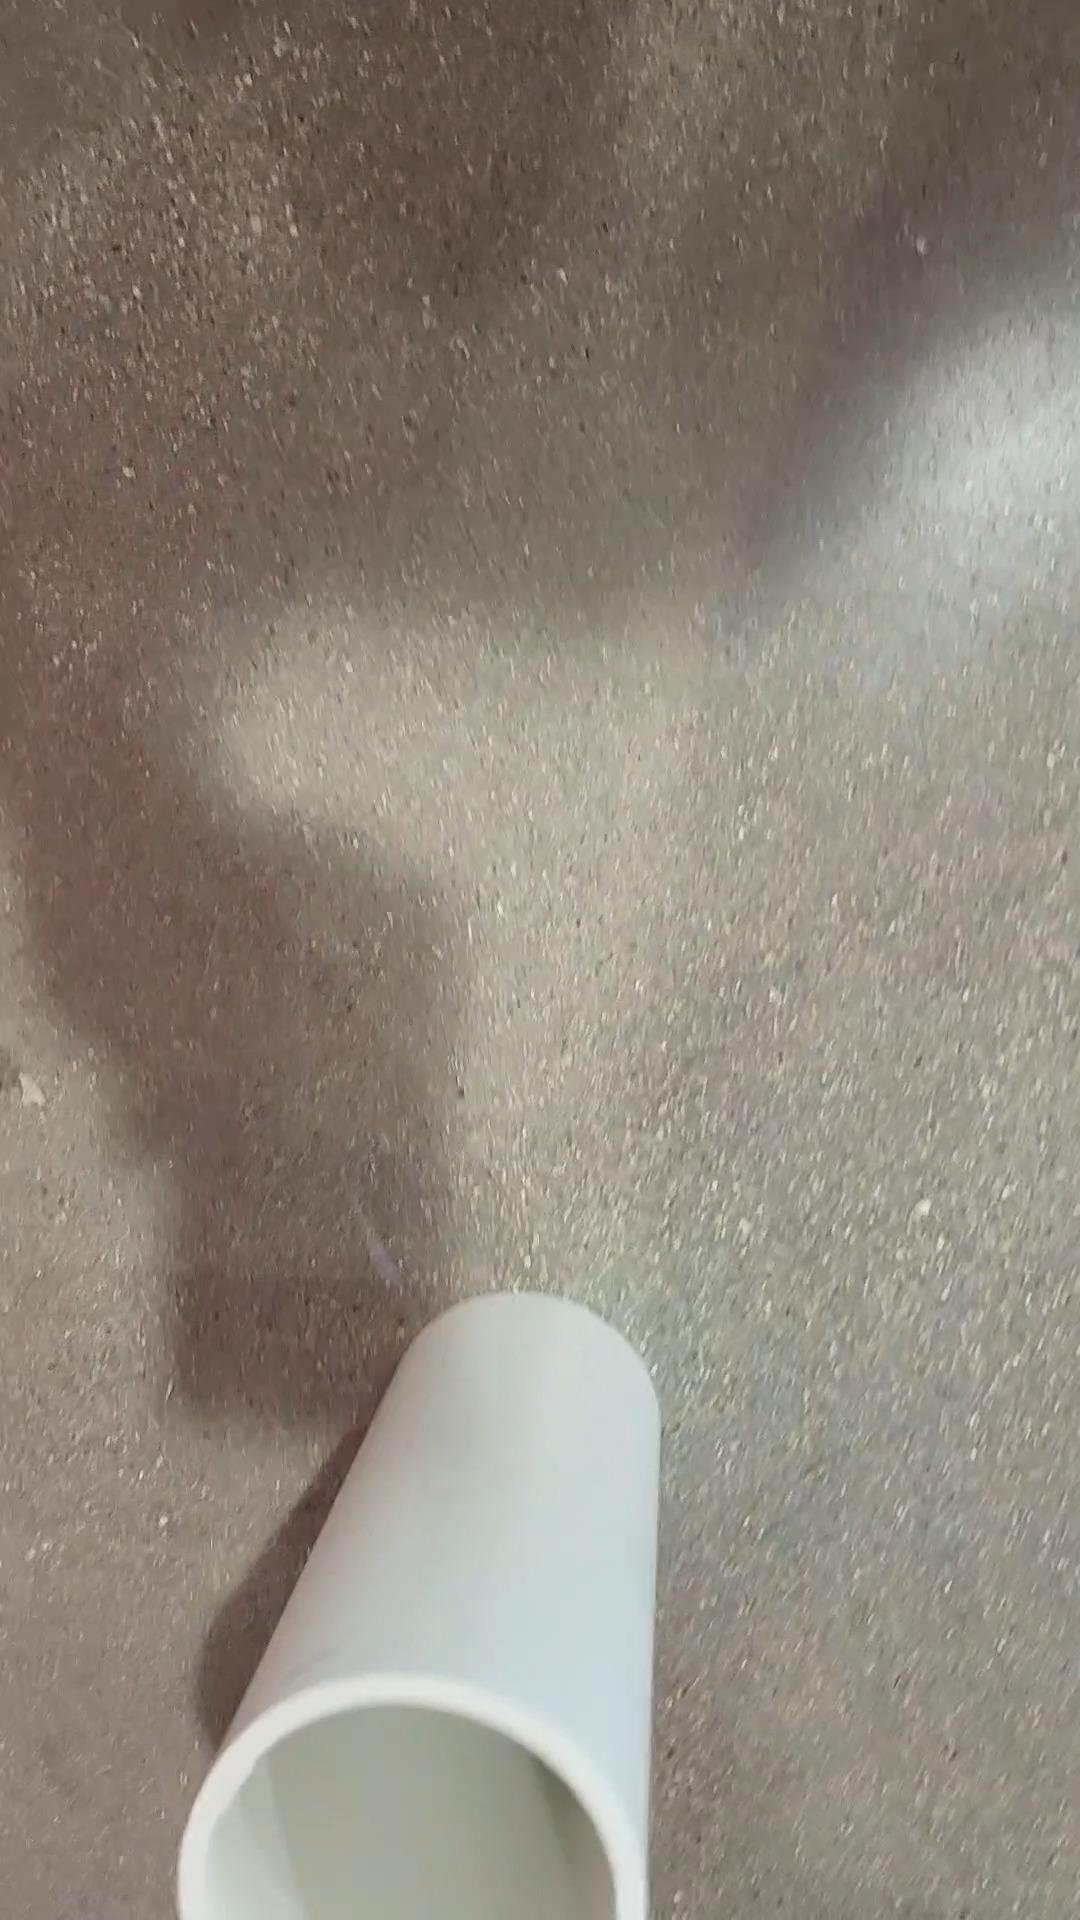coral: (157, 1294, 674, 1920)
